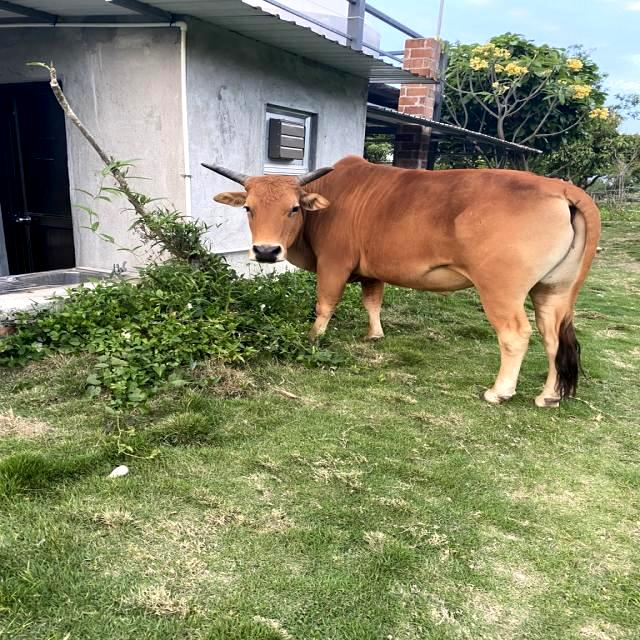COW: (205, 156, 600, 407)
